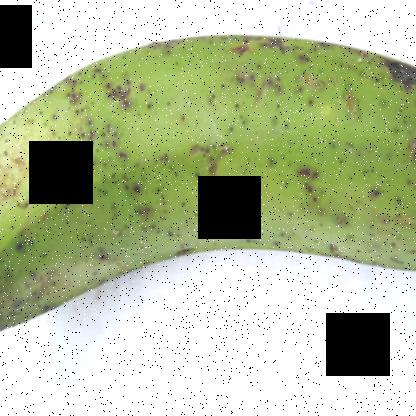unripe: (0, 0, 415, 351)
